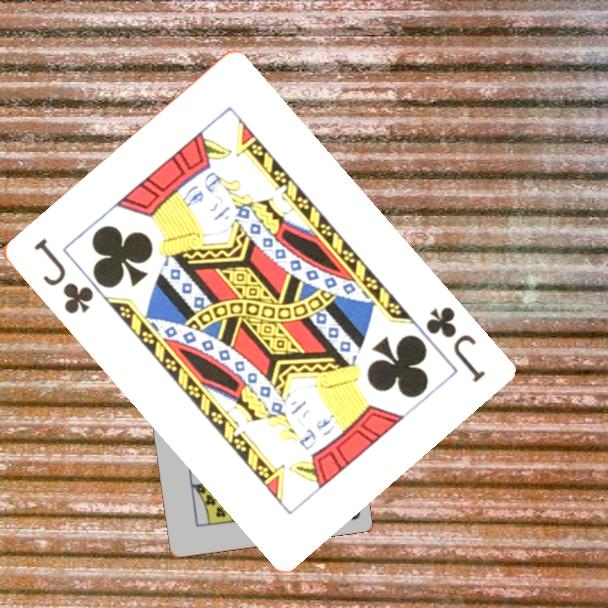c11: (421, 302, 488, 386), (29, 234, 96, 317)
